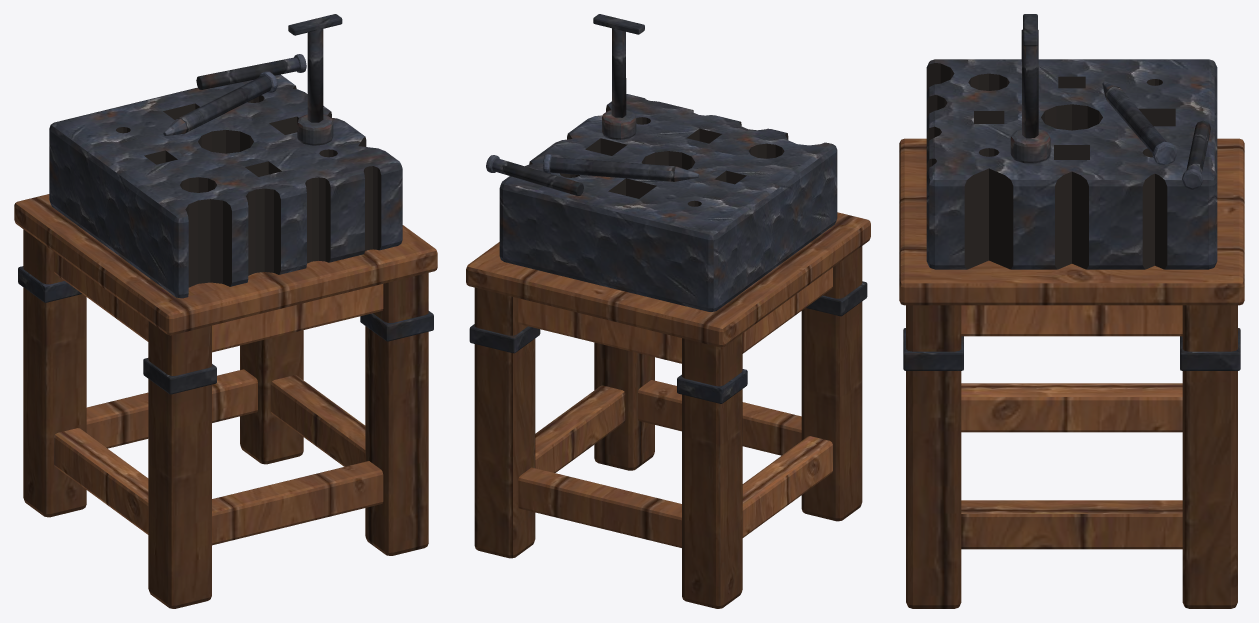
The model's file is ef_swage_block.glb.
3 renders of one model, left to right at view 1: azimuth 30°, elevation 25°; view 2: azimuth 150°, elevation 25°; view 3: azimuth 270°, elevation 25°, orthographic. The views are drawn at different scales.
Visible parts, largest first — view 1: model; view 2: model; view 3: model.
Boxes of the visible parts, x1,y1,x2,y2 form: model: (14, 14, 437, 608); model: (466, 14, 870, 608); model: (899, 14, 1244, 608).
Size of the model in its own units: 0.5 by 0.883 by 0.5.
8 materials, 7 textured.
